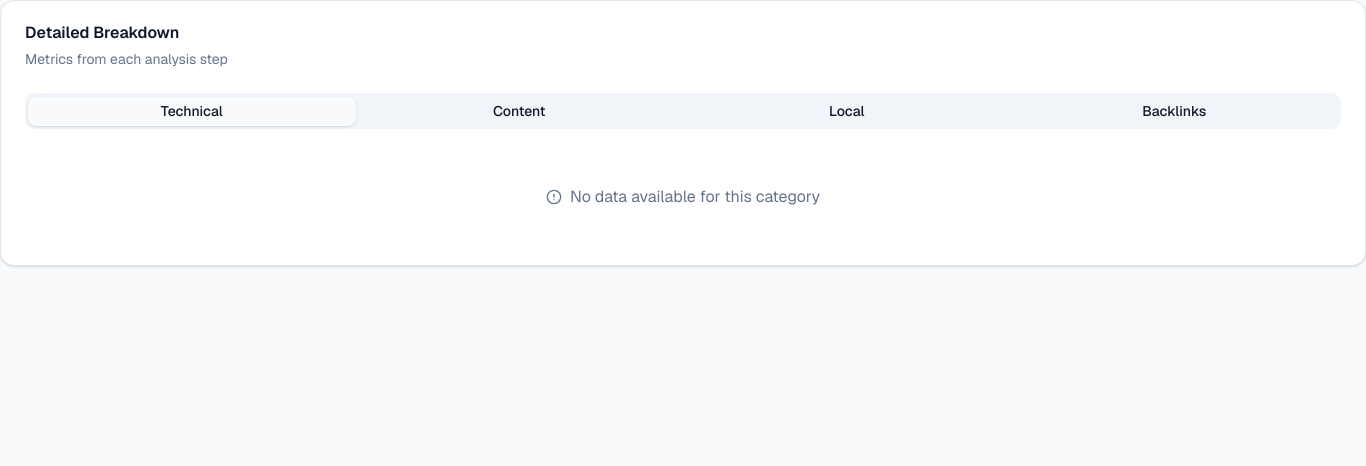
Test case: CategoryBreakdown › tab navigation › switches to local tab when clicked
This screenshot has width=1366, height=466.
Click the tab "Local" at (847, 111), box [683,96,1010,126]
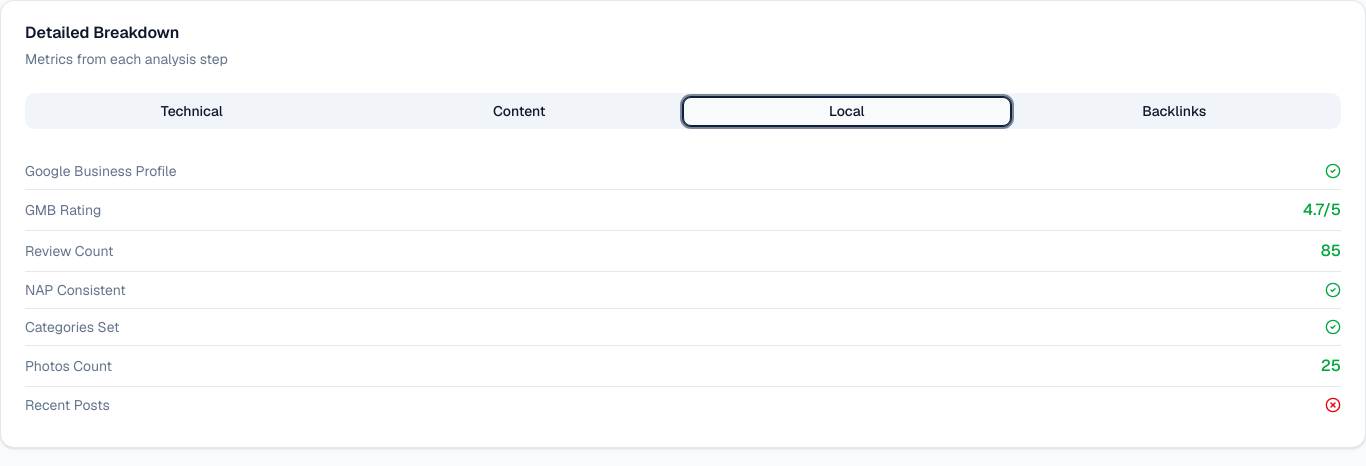
Expected: the text "Google Business Profile" is shown, [25,161,177,181]
